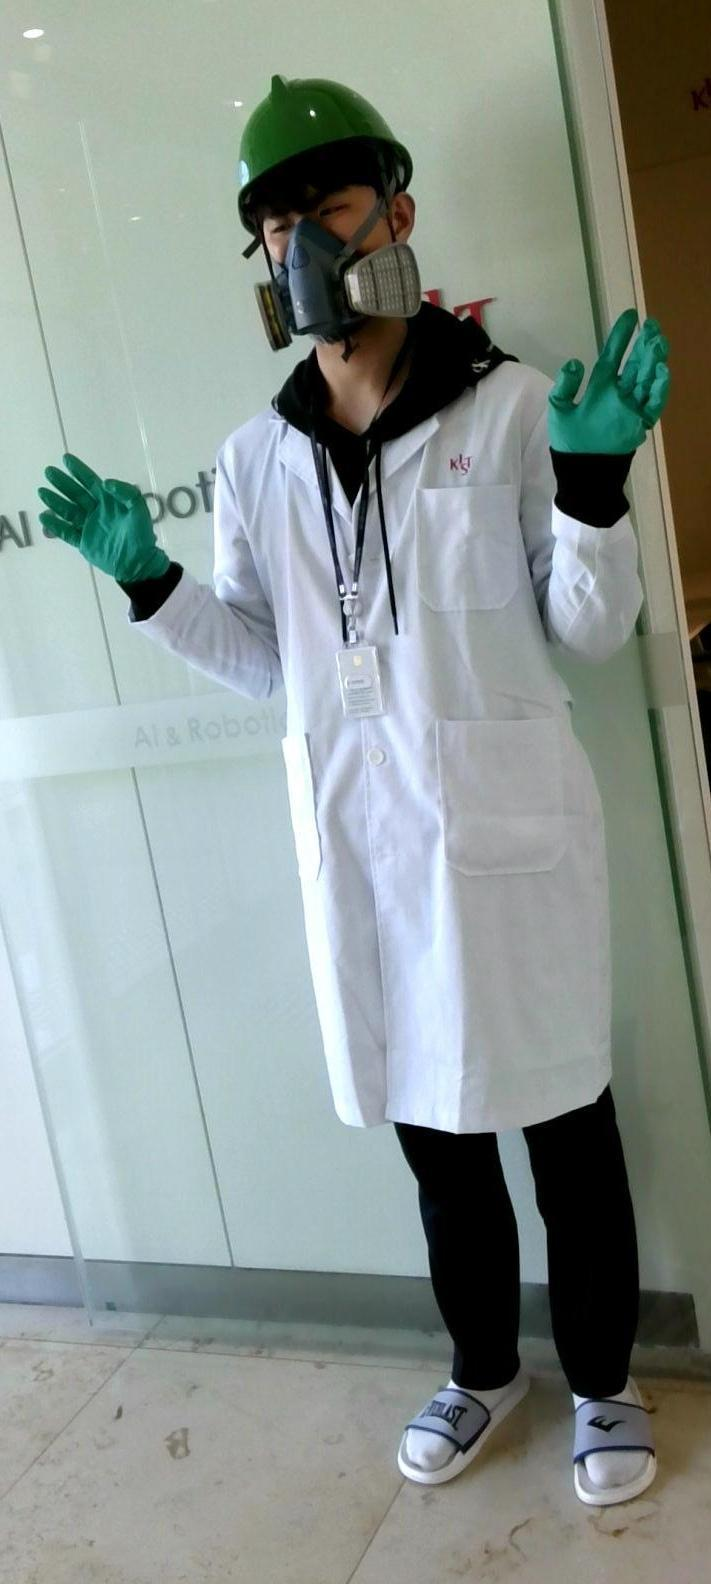lab_coat: (211, 371, 557, 1146)
